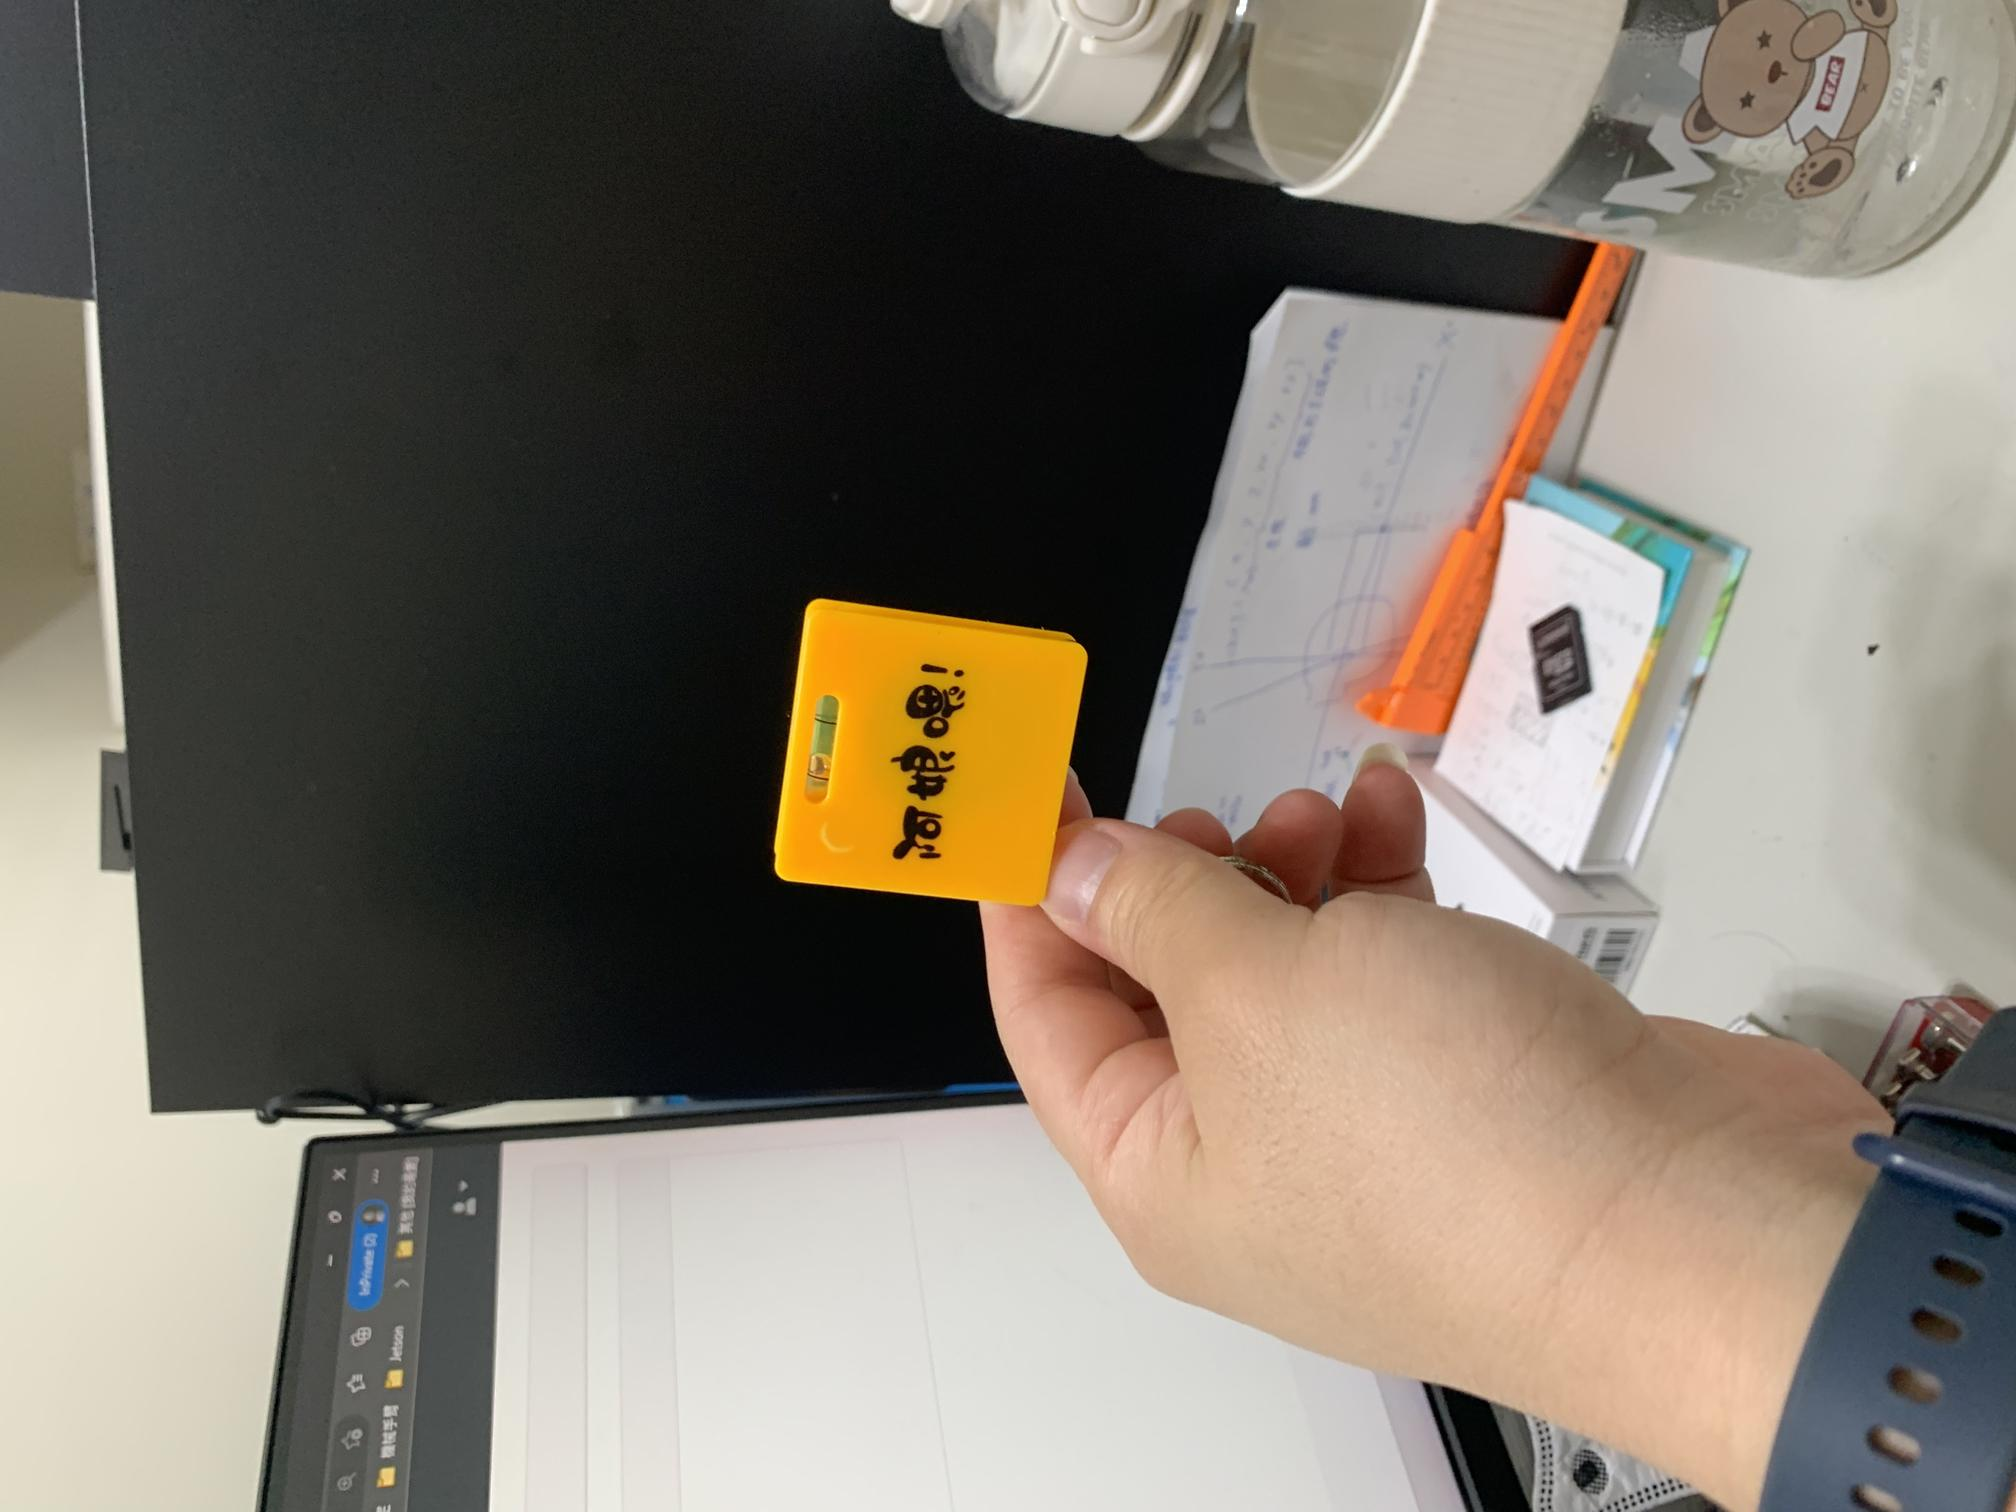Laio: (721, 575, 1089, 916)
